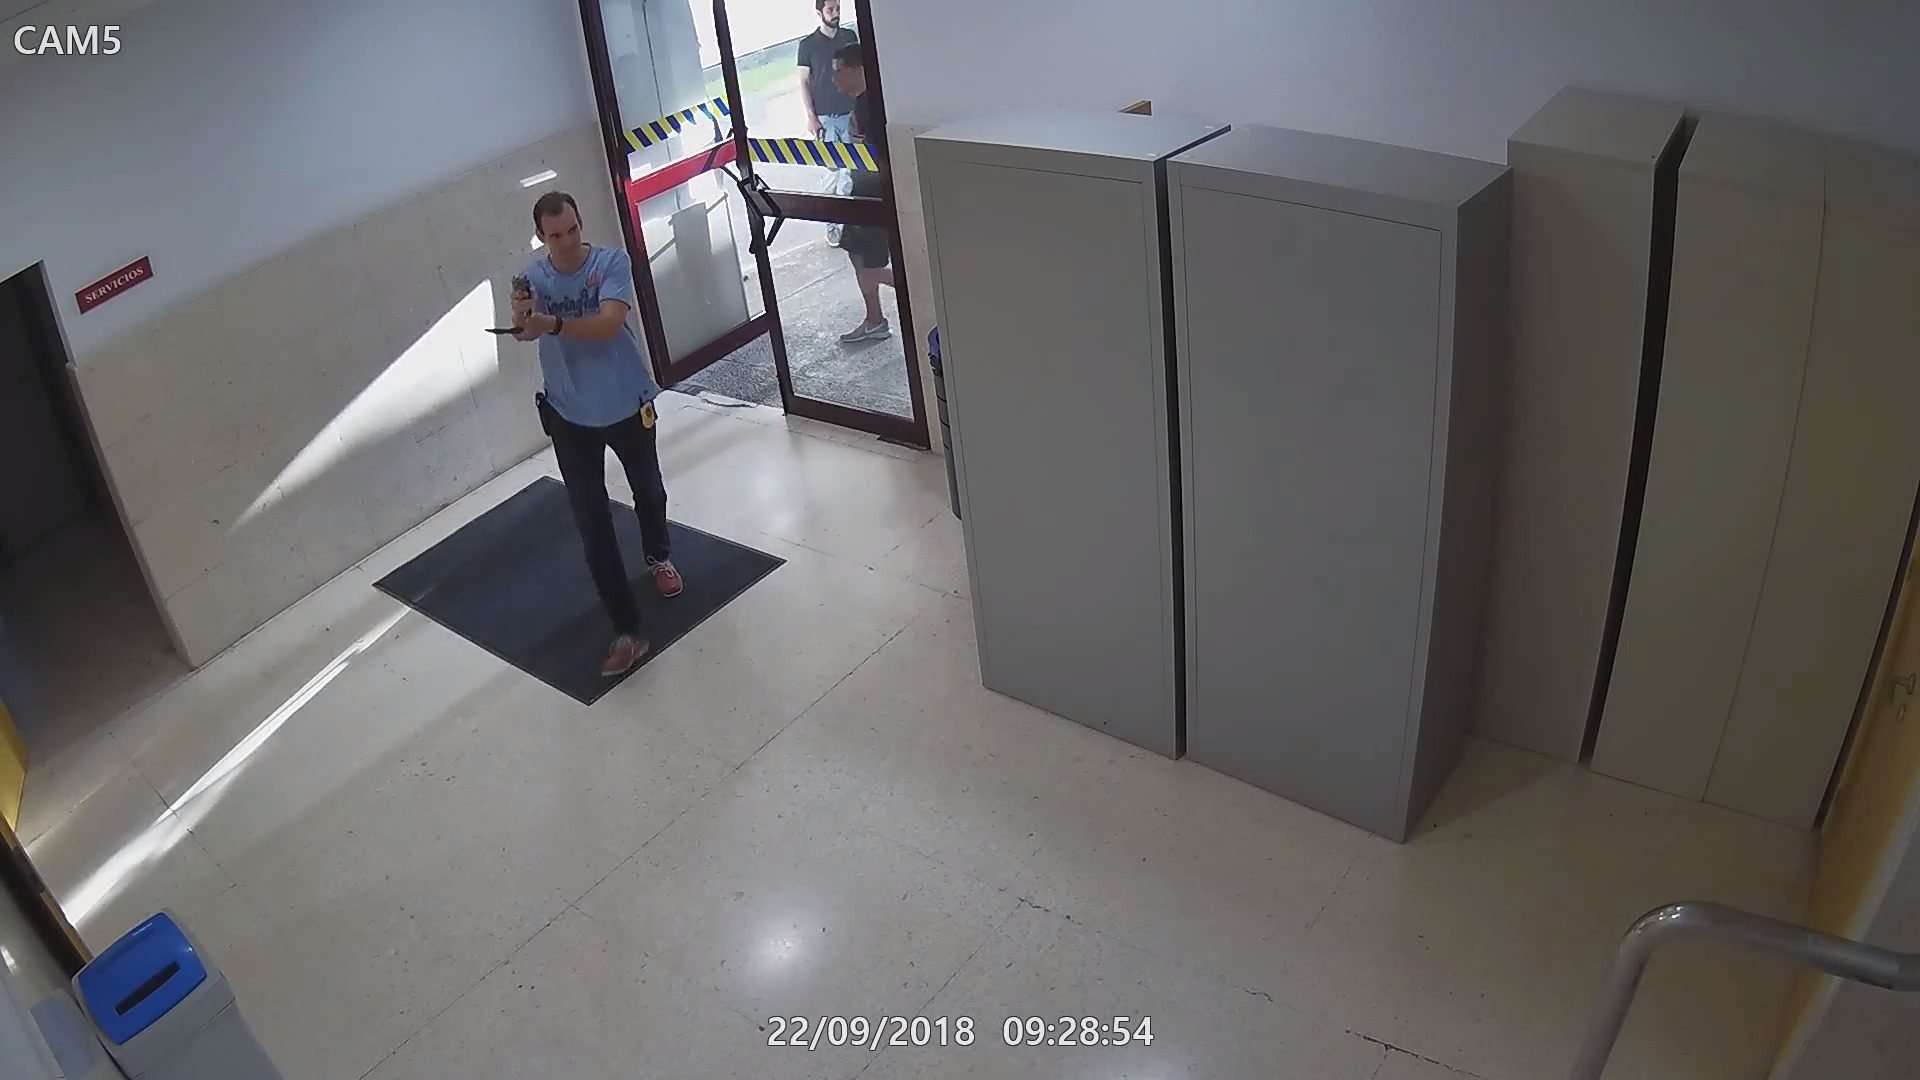Handgun: (506, 272, 535, 314)
Knife: (481, 311, 554, 345)
